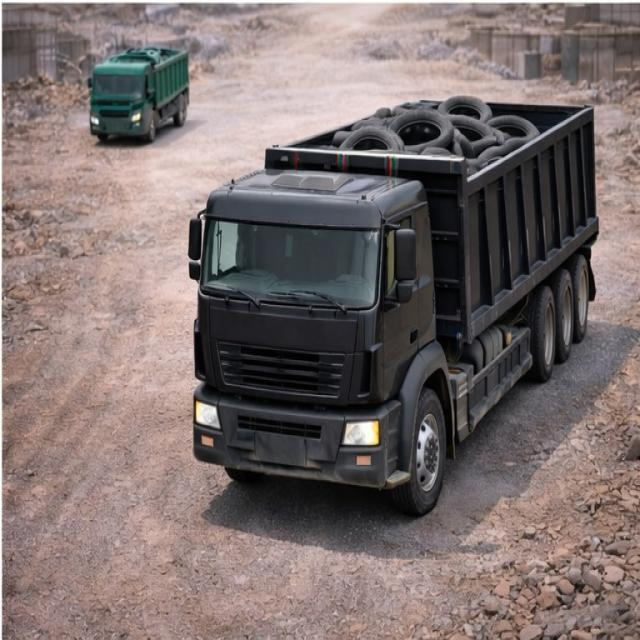Box: (266, 102, 590, 172), (114, 49, 182, 63)
Truck: (186, 88, 604, 512), (85, 42, 193, 138)
